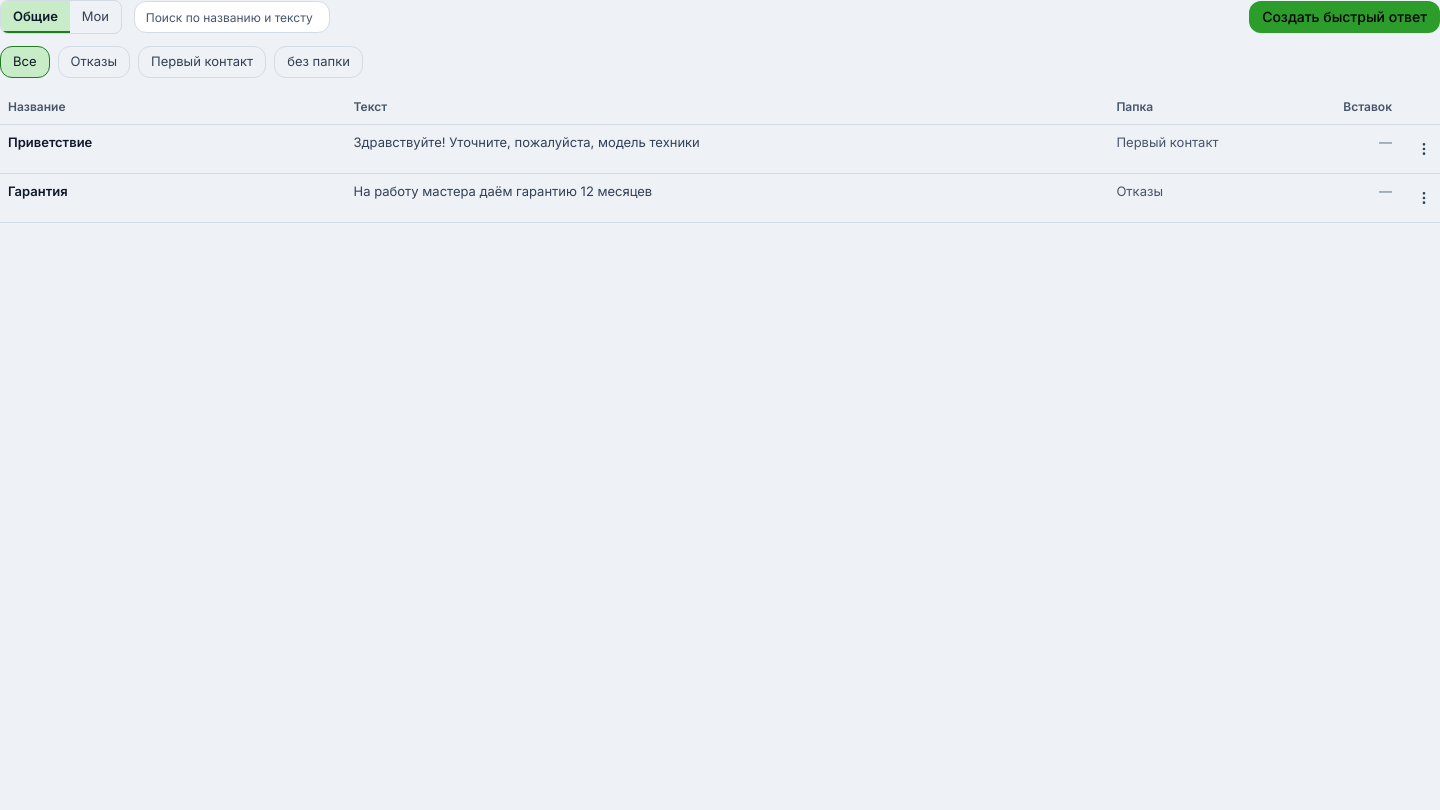
Test: Быстрые ответы — вставка переменной и удаление › удаление личного быстрого ответа не грозит чужой бедой, общего — грозит
The width and height of the screenshot is (1440, 810).
Expected: the table is shown, [0,90,1439,223]
Note: Общий: предупреждение настоящее — ответ пропадёт у всей смены.
Click the button named "Действия: Приветствие": (1424, 149) [1408,133,1439,165]
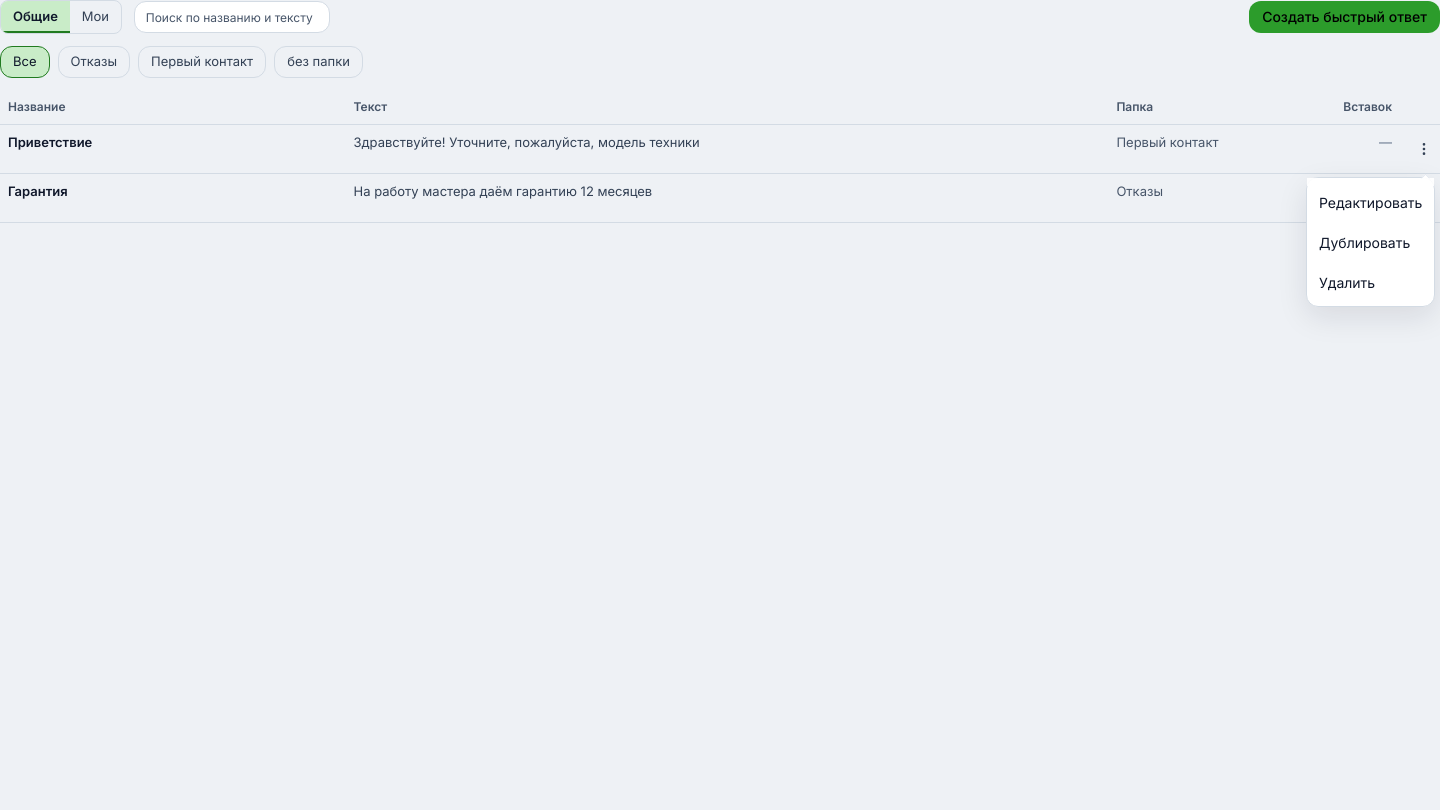
Click the menu item "Удалить": (1370, 282) [1311,262,1430,302]
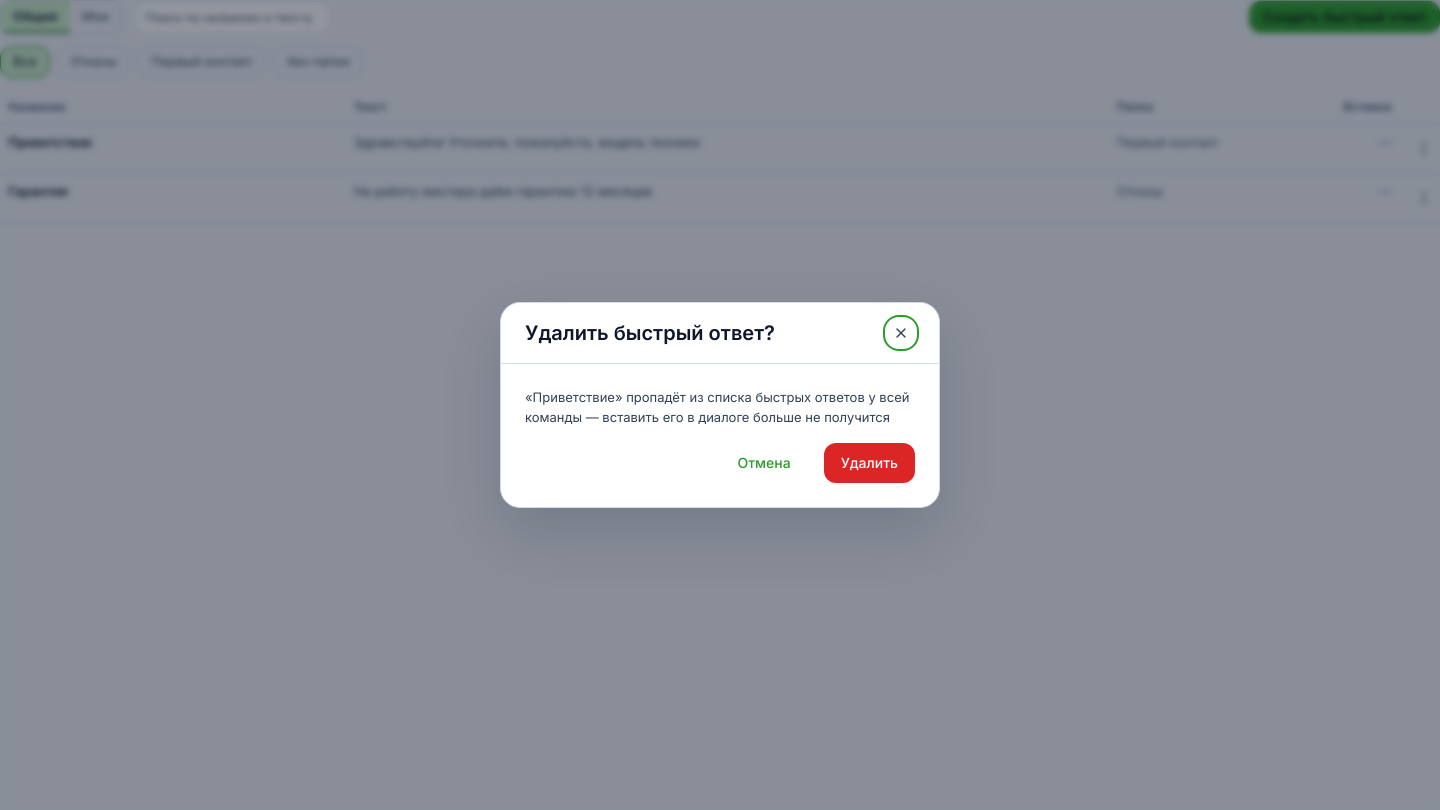
Result: the text "пропадёт из списка быстрых ответов у всей команды" is shown at [525,389,909,424]
Click the button "Отмена": (764, 463) [720,443,808,483]
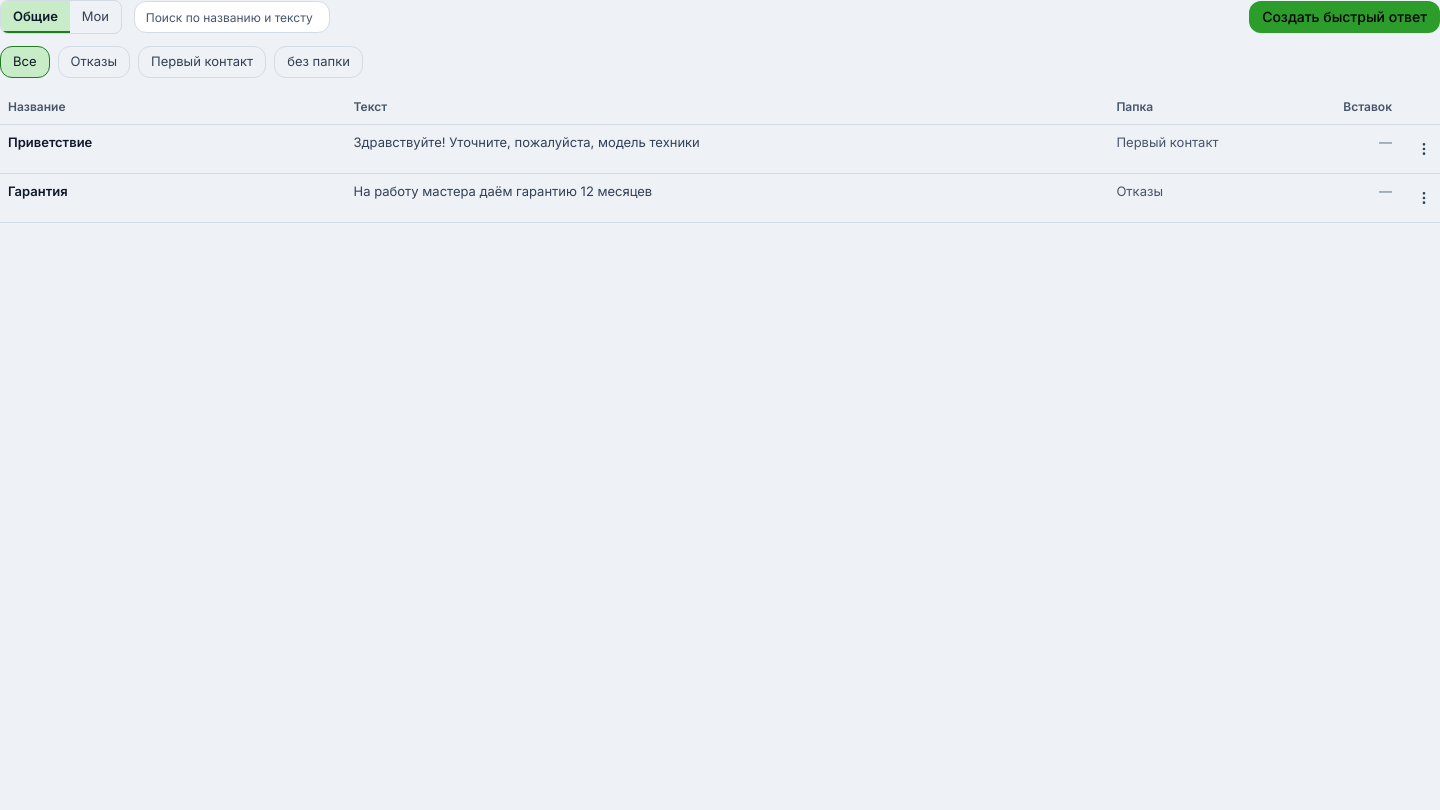
Result: the dialog is gone
Note: Личный: у остальных его нет и не было — пугать нечем.
Click the tab "Мои": (95, 17) [70,1,121,33]
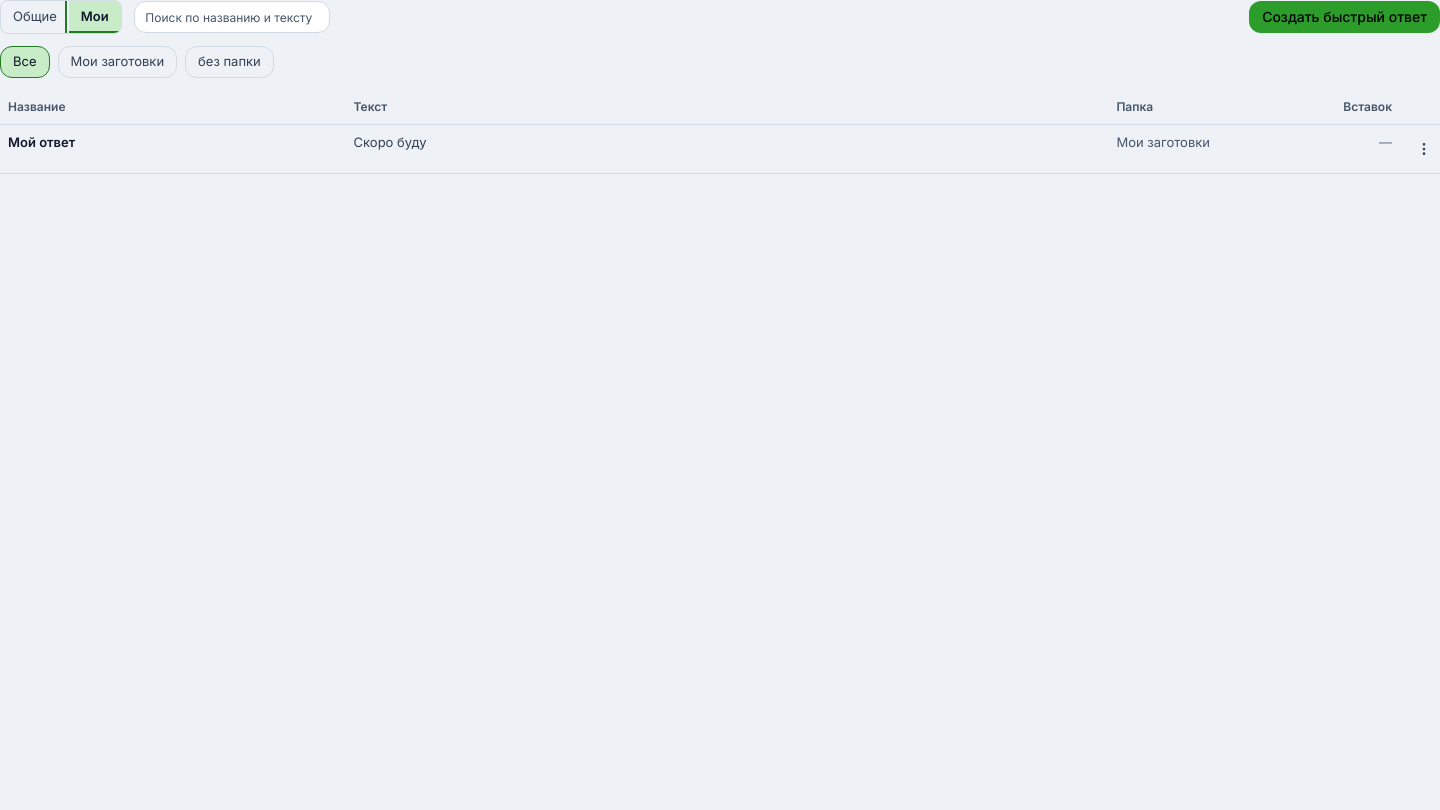
Click the button named "Действия: Мой ответ": (1424, 149) [1408,133,1439,165]
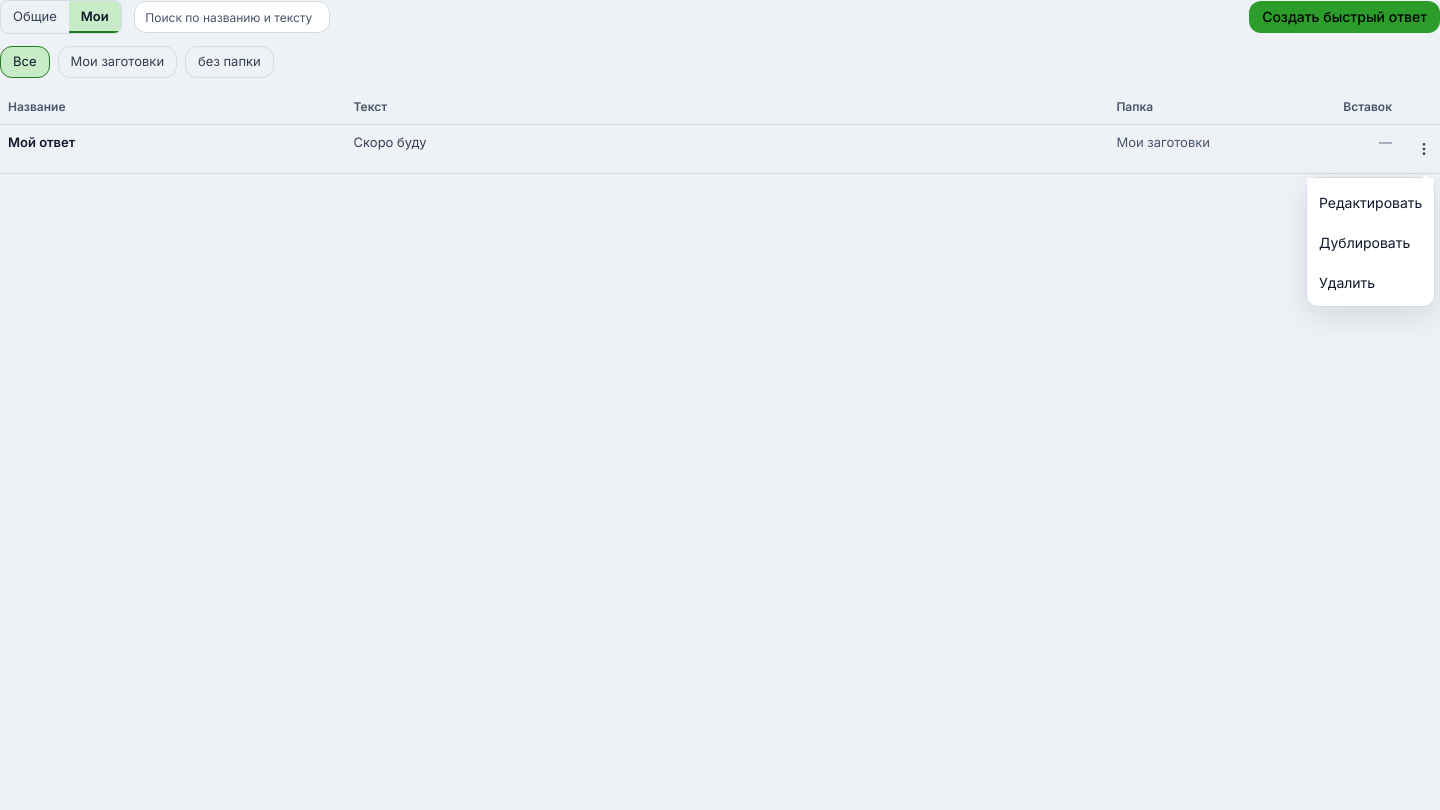
Click the menu item "Удалить": (1370, 282) [1311,262,1430,302]
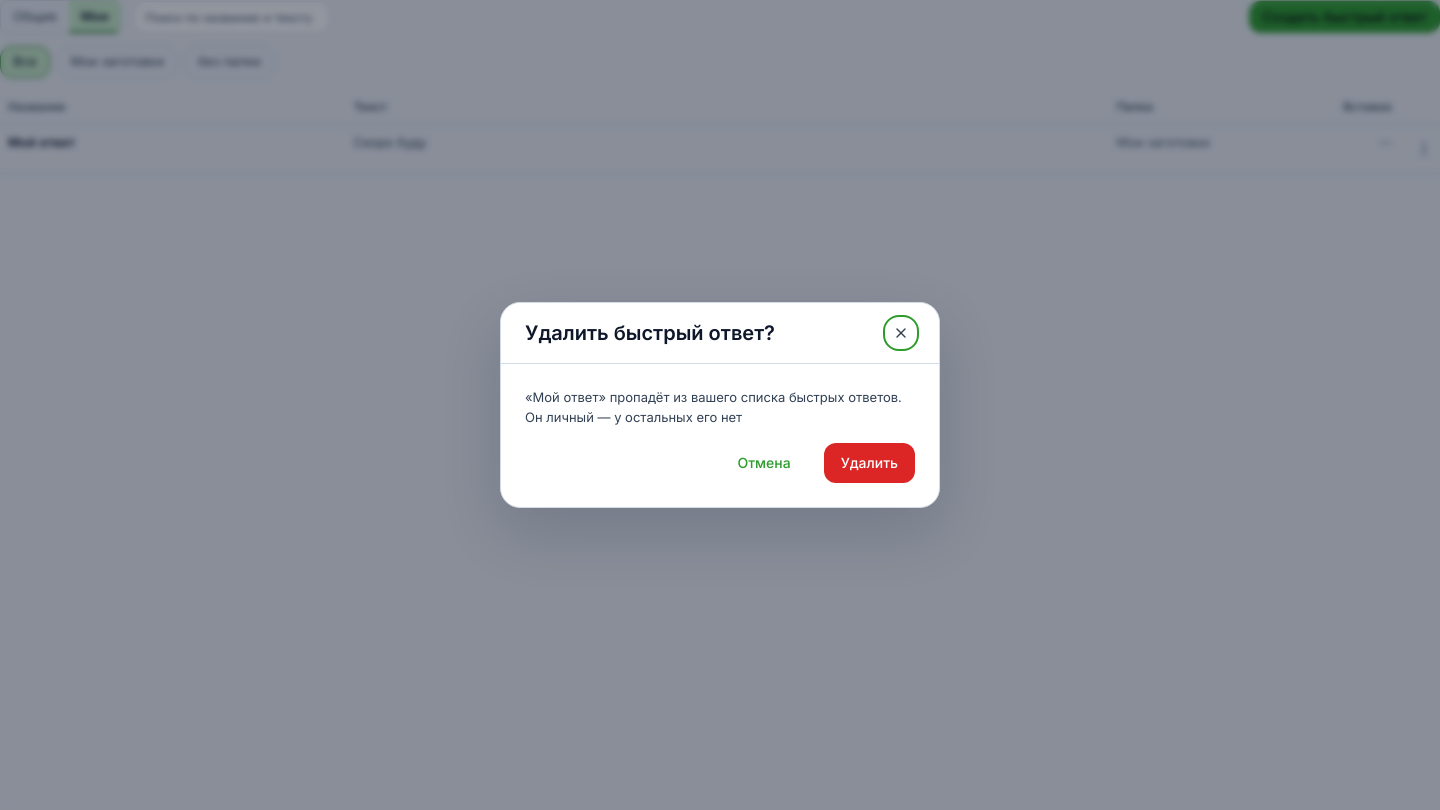
Expected: the text "у всей команды" is not shown
Result: the text "Он личный — у остальных его нет" is shown at [525,389,902,424]
